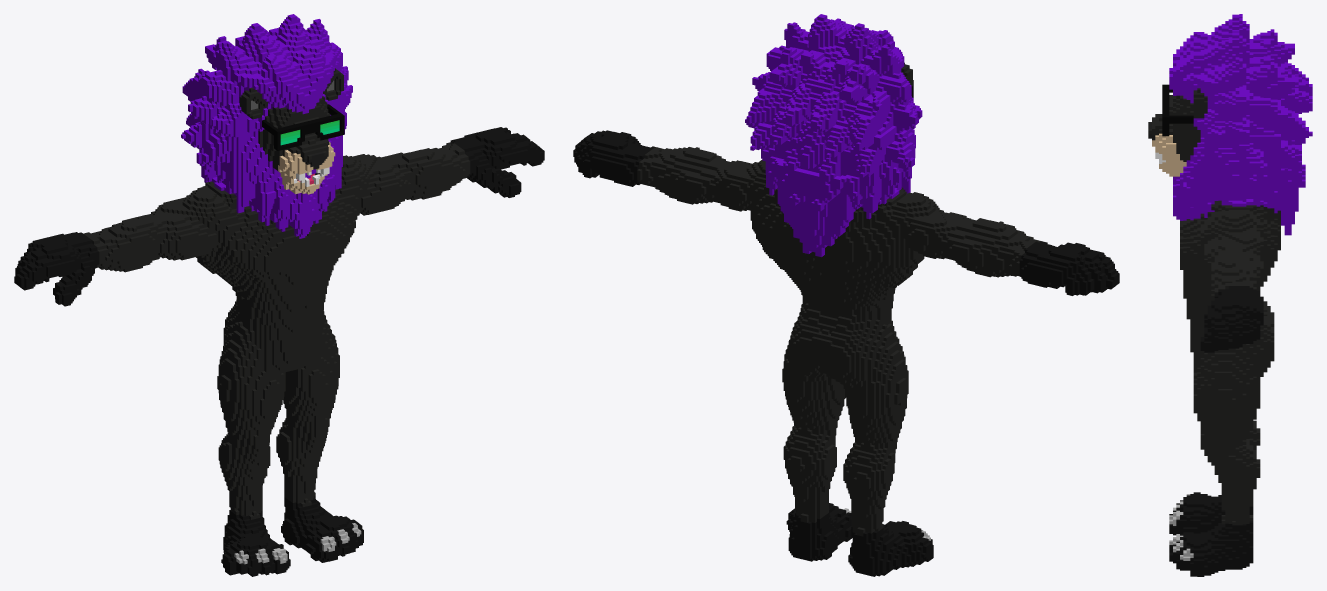
File: 270-C4C6TMGh.glb
The picture shows the model from 3 angles, left to right: view 1: azimuth 30°, elevation 25°; view 2: azimuth 150°, elevation 25°; view 3: azimuth 270°, elevation 25°; orthographic projection. The views are drawn at different scales.
Parts seen in each view (by area): view 1: open; view 2: open; view 3: open.
Boxes of the visible parts, box(x1,y1,x2,y2) form: open: box(14, 14, 544, 576); open: box(573, 14, 1119, 576); open: box(1148, 14, 1312, 576).
Bounding box in the file's own units: 17.2 × 16.5 × 4.7.
4 materials, 4 textured.
